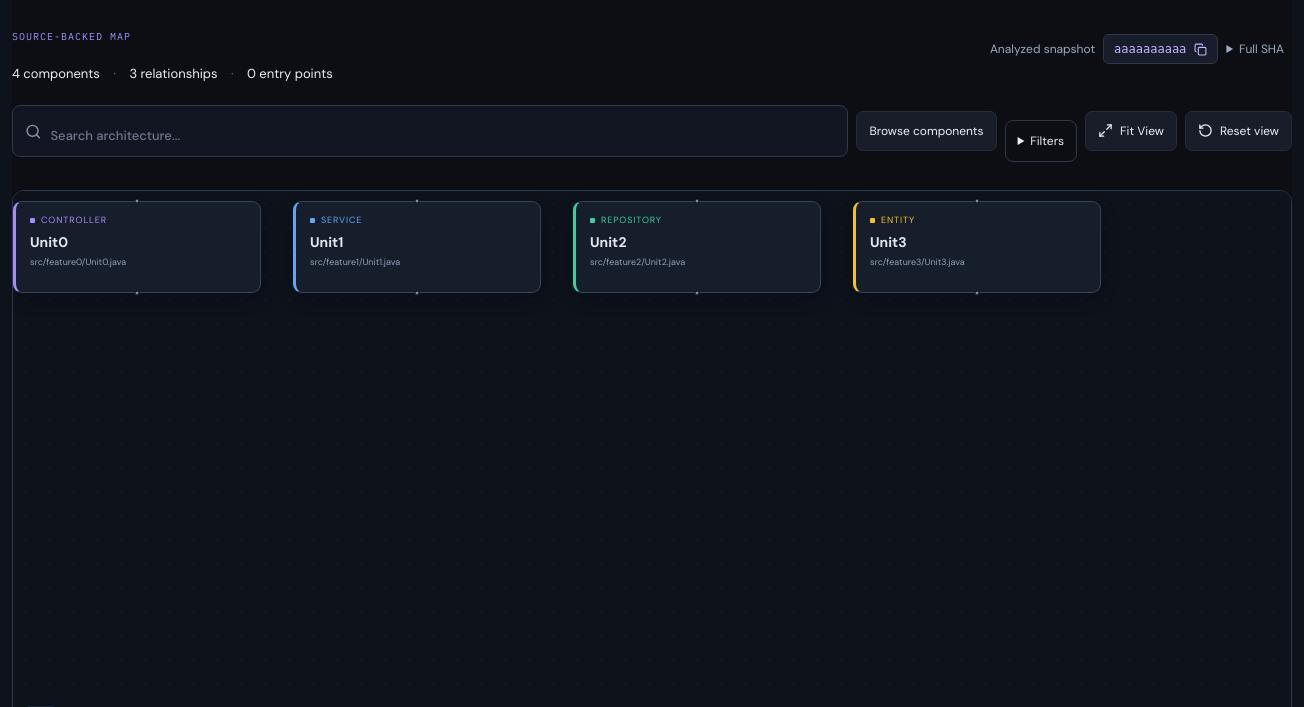
Test case: local search matches feature1
Type "feature1" into the field labelled "Search architecture". click: (443,136)
box: [50, 115, 836, 156]
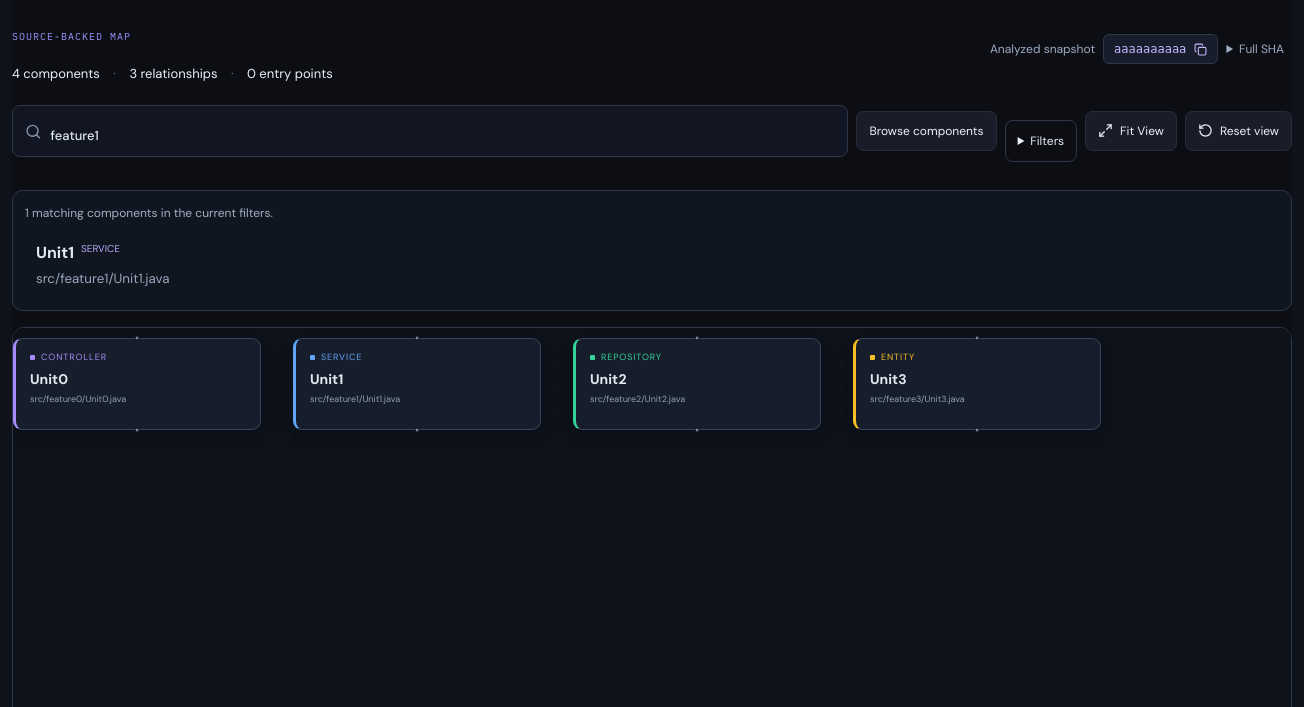
Expected: the element "Architecture search results" does not show "Unit0"
Expected: the element named "Architecture search results" shows "Unit1", [25, 232, 650, 298]
